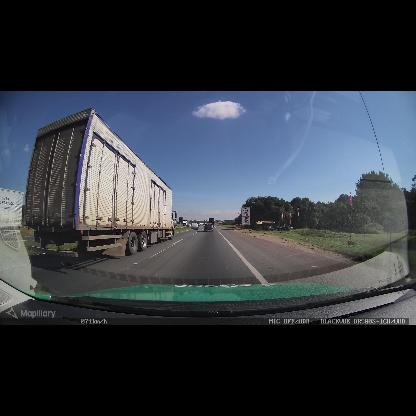R-19: (241, 207, 250, 226)
